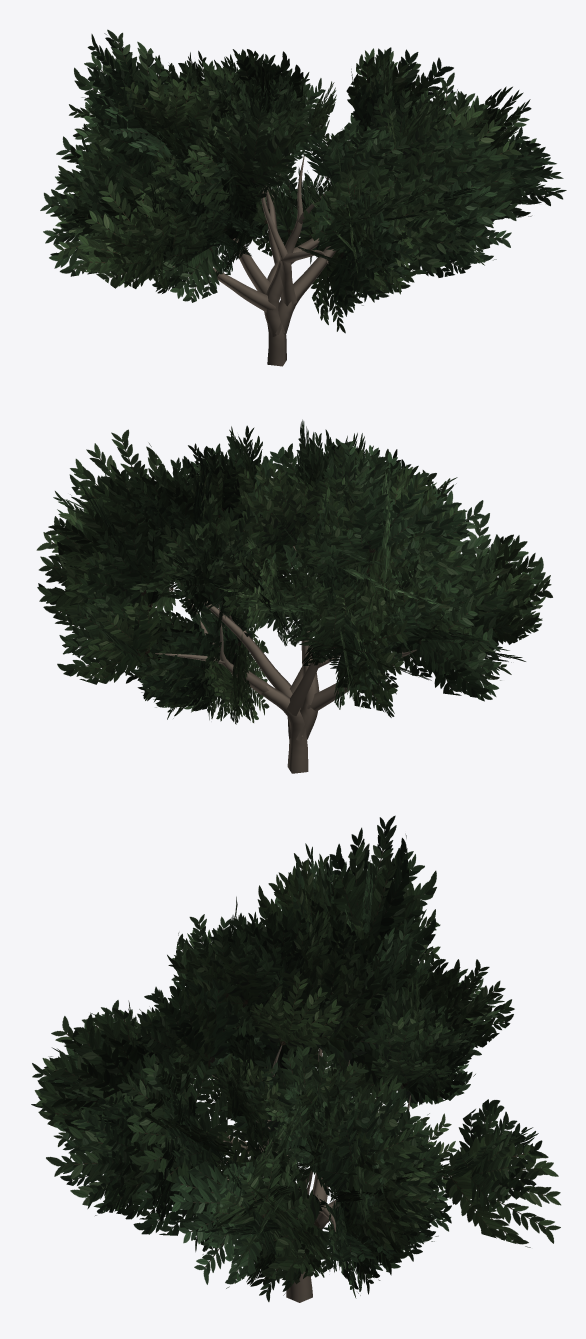
Rendered from olive_lod2.glb.
3 renders of one model, top to bottom at view 1: azimuth 30°, elevation 25°; view 2: azimuth 150°, elevation 25°; view 3: azimuth 270°, elevation 25°, orthographic. The views are drawn at different scales.
Parts seen in each view (by area): view 1: Tree_Foliage_Main_LOD2, Tree_Foliage_Secondary_LOD2, Tree_Trunk_LOD2; view 2: Tree_Foliage_Main_LOD2, Tree_Foliage_Secondary_LOD2, Tree_Trunk_LOD2; view 3: Tree_Foliage_Main_LOD2, Tree_Foliage_Secondary_LOD2, Tree_Trunk_LOD2.
Part boxes in pixels (x1,y1,x2,y2): Tree_Foliage_Main_LOD2: (40, 29, 566, 309); Tree_Foliage_Secondary_LOD2: (143, 49, 449, 333); Tree_Trunk_LOD2: (173, 155, 336, 366); Tree_Foliage_Main_LOD2: (36, 419, 552, 717); Tree_Foliage_Secondary_LOD2: (88, 428, 454, 724); Tree_Trunk_LOD2: (155, 546, 416, 773); Tree_Foliage_Main_LOD2: (31, 815, 560, 1288); Tree_Foliage_Secondary_LOD2: (98, 905, 493, 1301); Tree_Trunk_LOD2: (212, 1042, 446, 1302).
Size of the model in its own units: 1.78 by 1.23 by 1.48.
Materials: 3 (2 with a texture image).
